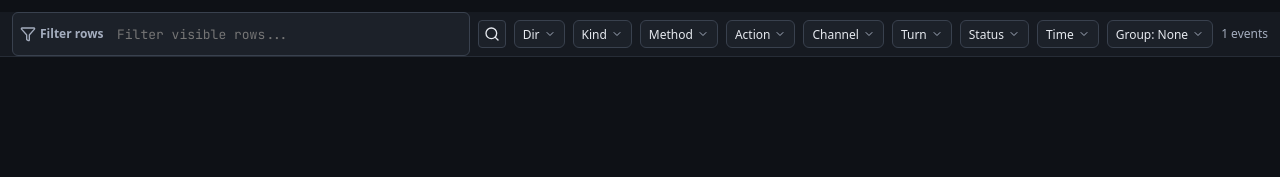
Test: FilterBar › uses readable labels for long channel facet values
What coordinates should you click on to do the following:
click the button "Channel"
I would click on:
 (844, 34)
Its box is [804,20,884,48].
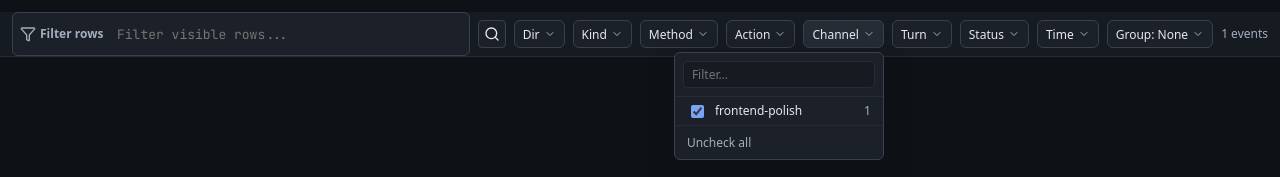
expect the text "frontend-polish" is shown: met, box [715,102,802,119]
